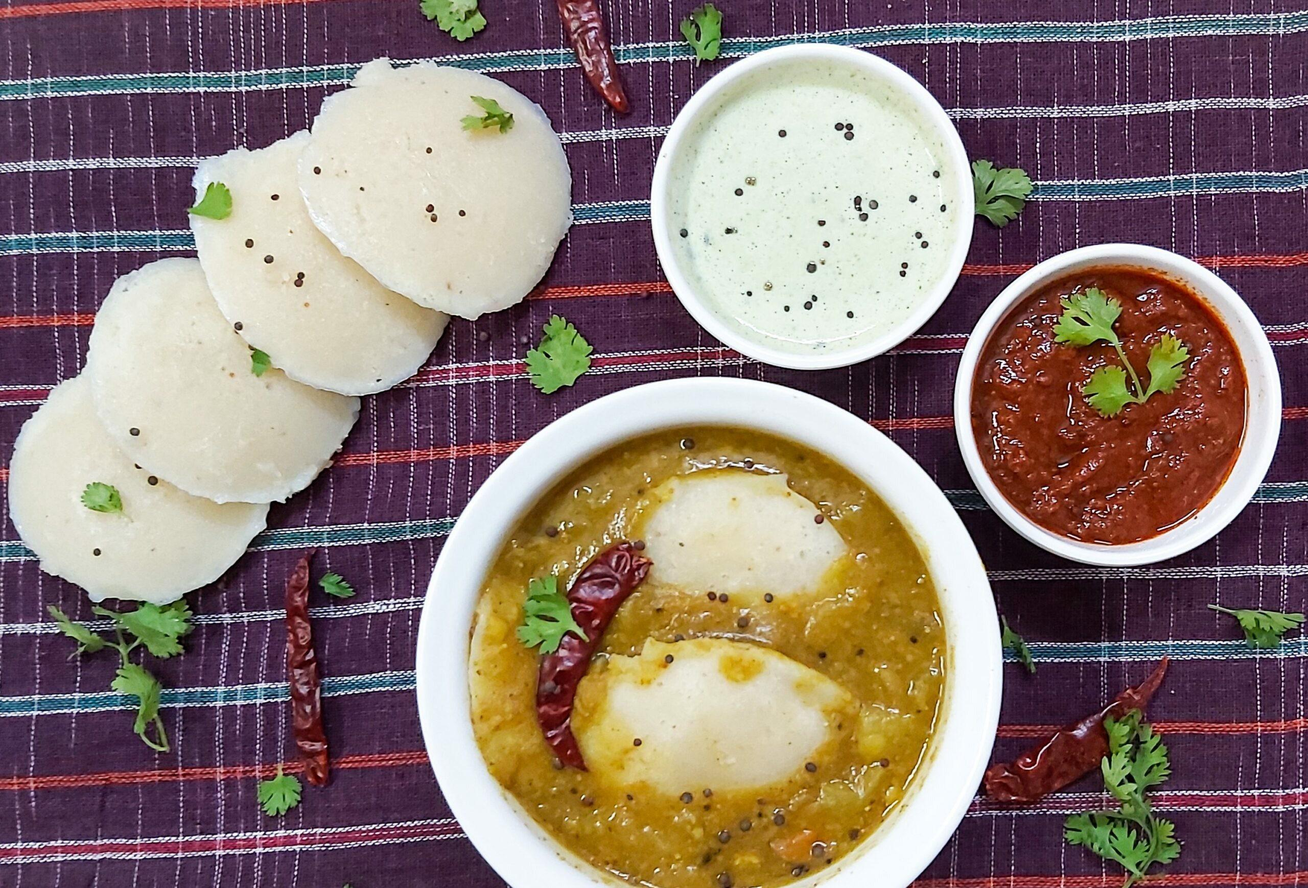Idli: (192, 132, 454, 399), (307, 62, 575, 320), (92, 254, 366, 500), (14, 349, 267, 604), (573, 637, 852, 799), (617, 470, 852, 604)
